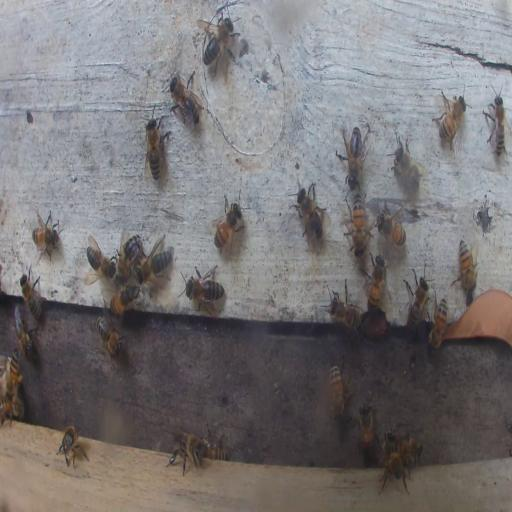bee: (180, 262, 226, 314), (292, 181, 329, 243), (202, 10, 236, 77), (166, 71, 204, 127), (432, 90, 466, 150), (338, 124, 369, 184), (392, 134, 424, 192), (213, 194, 244, 252), (484, 86, 508, 160), (166, 430, 204, 476), (32, 205, 62, 260), (404, 269, 430, 332), (378, 448, 410, 498), (139, 237, 173, 280), (144, 113, 165, 182), (326, 290, 362, 330), (86, 238, 116, 282), (58, 425, 88, 468), (454, 239, 476, 297), (428, 295, 450, 353), (19, 268, 44, 318), (113, 236, 141, 279), (347, 196, 367, 256), (327, 361, 347, 420), (14, 308, 36, 360), (96, 315, 123, 357), (365, 256, 386, 308), (108, 285, 138, 317), (379, 211, 406, 245), (396, 432, 425, 462), (357, 402, 373, 456), (6, 346, 22, 400), (201, 429, 225, 461), (1, 397, 23, 424), (386, 431, 397, 458)
